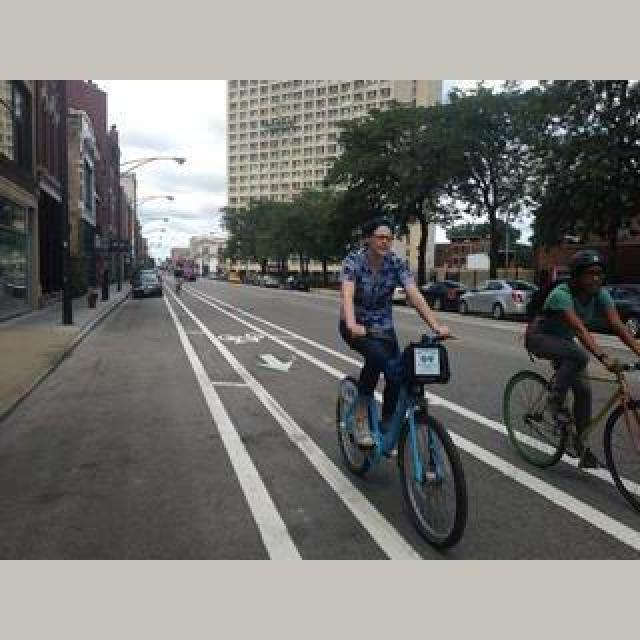Bus-Bike: (458, 280, 540, 320), (604, 284, 640, 336), (422, 280, 468, 310), (130, 268, 162, 298)
MC-Bike: (338, 220, 450, 452), (528, 248, 640, 468)
Person: (334, 330, 468, 550), (504, 350, 640, 510)
